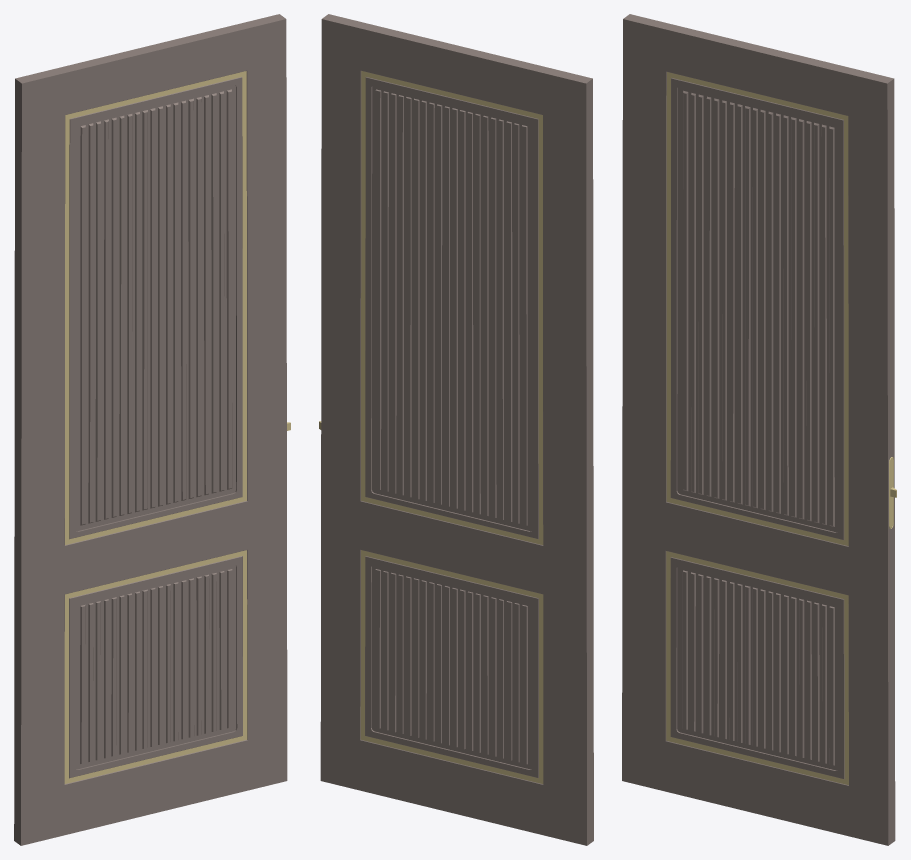
Rendered from 23_MARSEILLE_Door.glb.
The picture shows the model from 3 angles, left to right: view 1: azimuth 30°, elevation 25°; view 2: azimuth 150°, elevation 25°; view 3: azimuth 330°, elevation 25°; orthographic projection.
Visible parts, largest first — view 1: 23_MARSEILLE_Door; view 2: 23_MARSEILLE_Door; view 3: 23_MARSEILLE_Door.
Boxes of the visible parts, x1,y1,x2,y2 form: 23_MARSEILLE_Door: (14,14,290,845); 23_MARSEILLE_Door: (319,14,593,845); 23_MARSEILLE_Door: (622,14,896,845).
Bounding box in the file's own units: 0.8228 × 2.2 × 0.036.
